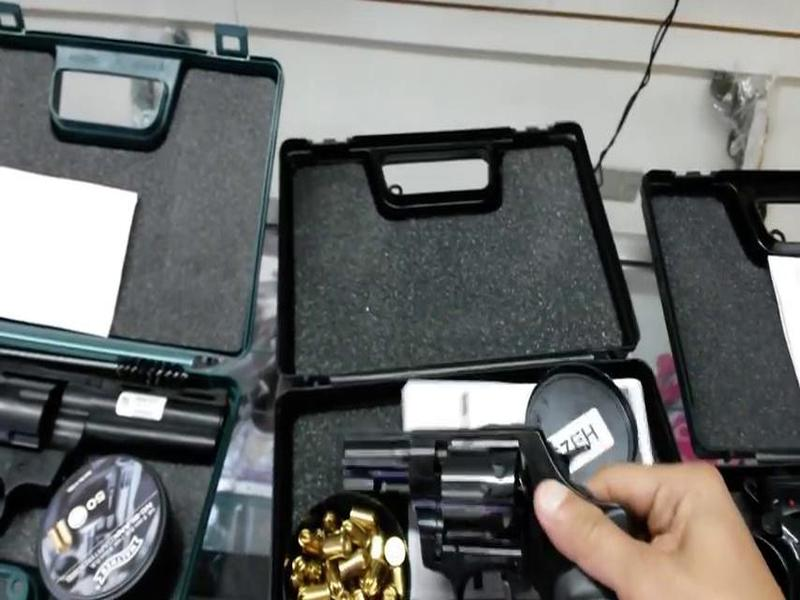Revolver: (326, 402, 670, 600)
